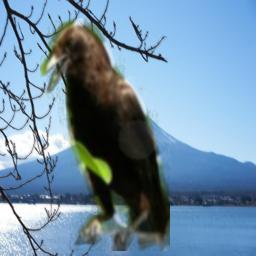Crow: (40, 18, 170, 251)
